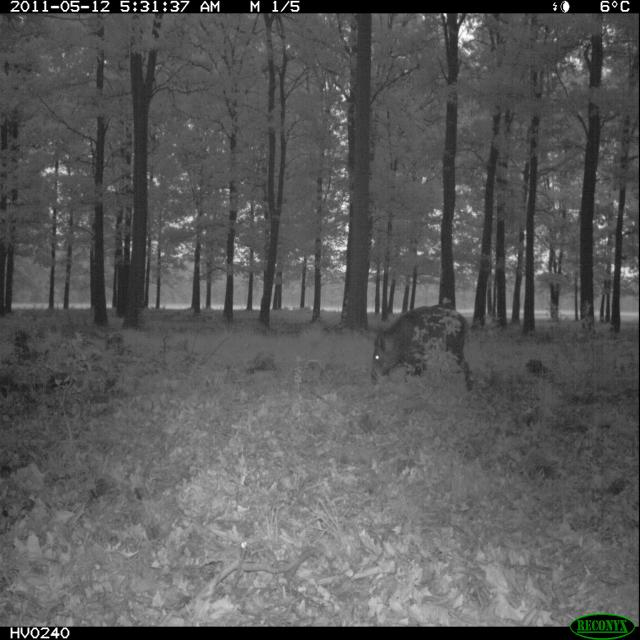boar: (334, 302, 535, 408)
